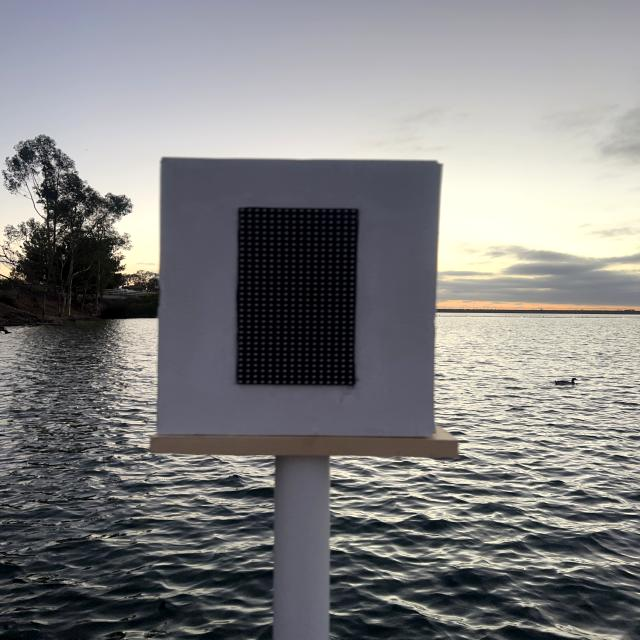led: (180, 173, 420, 431)
